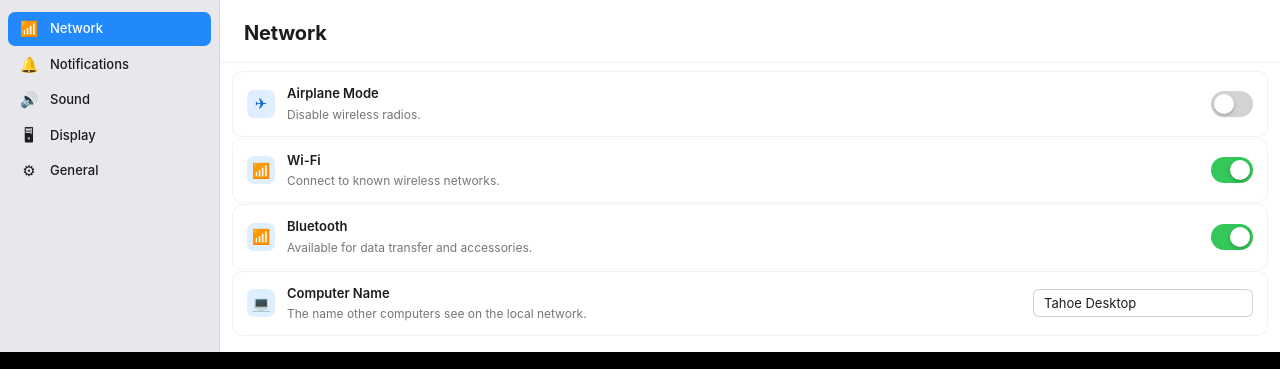
it: Settings › switches the detail view when a different pane is selected
Click the option with test id "settings-pane-display". click: click(110, 135)
box: [8,118,211,152]
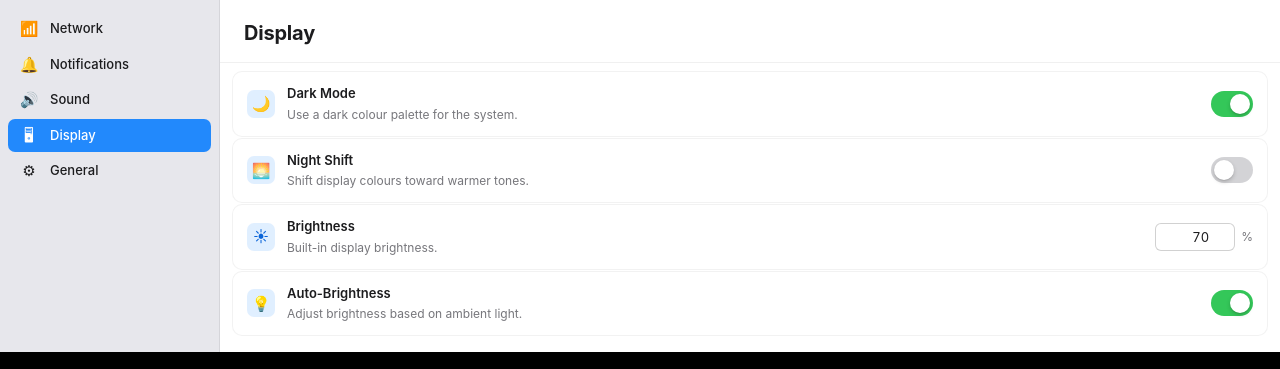
Check: the heading with test id "settings-detail-title" reads "Display", box [244,21,315,45]
